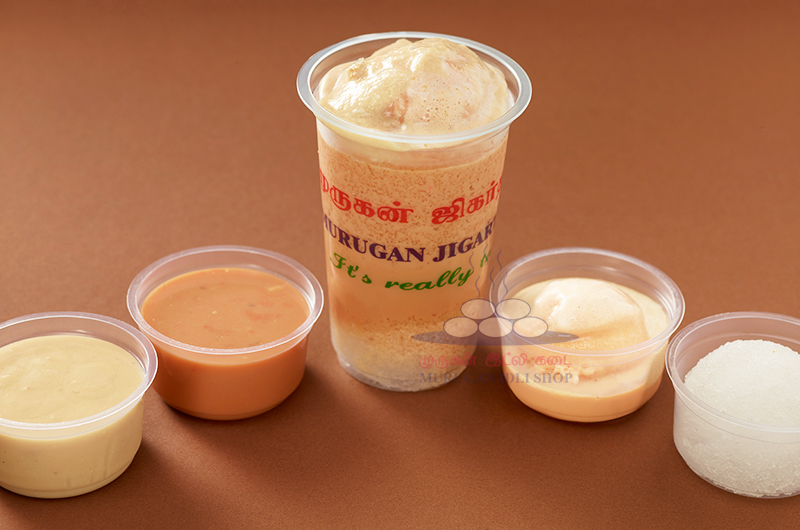jigirthanda: (315, 63, 529, 382)
